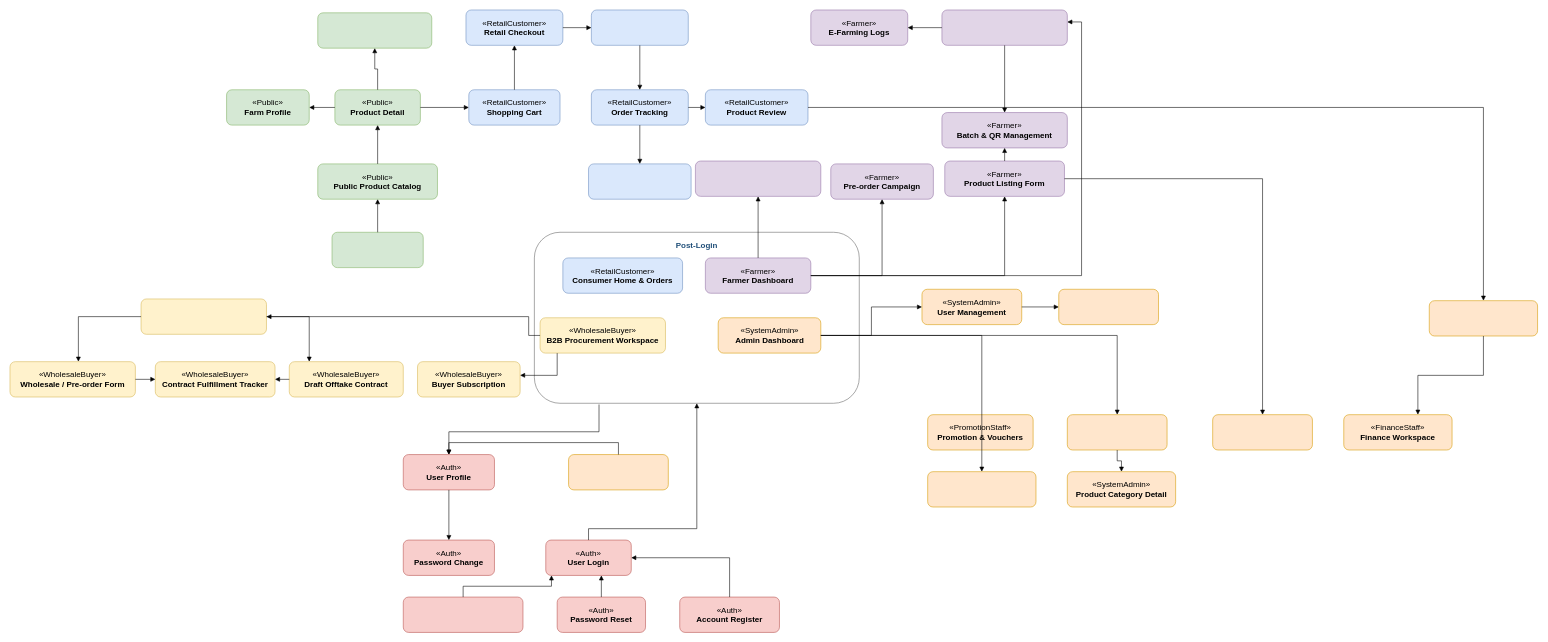
Image size: 1548x642. Some labels were removed from this diagram. Each missing label, with the centre of its shape:
«Auth» B2B Registration & KYC: the point at 463,614
«ContentModerator» Listing & Review Moderation: the point at 1262,432
«CustomerSupport» Complaint Resolution: the point at 1483,318
«Farmer» Crop Season Management: the point at 1004,27
«Farmer» Farmer Order Processing: the point at 758,178
«Public» Home Screen: the point at 377,250
«Public» QR Traceability Detail: the point at 374,30
«RetailCustomer» Order Complaint Form: the point at 639,181
«RetailCustomer» QR Payment: the point at 639,27
«SystemAdmin» Product Category List: the point at 1117,432
«SystemAdmin» Subscription Tier List: the point at 981,489
«SystemAdmin» User Account Detail: the point at 1108,307
«VerificationOfficer» KYC & Certificate Review: the point at 618,472
«WholesaleBuyer» Supplier Capacity Profile: the point at 203,316
